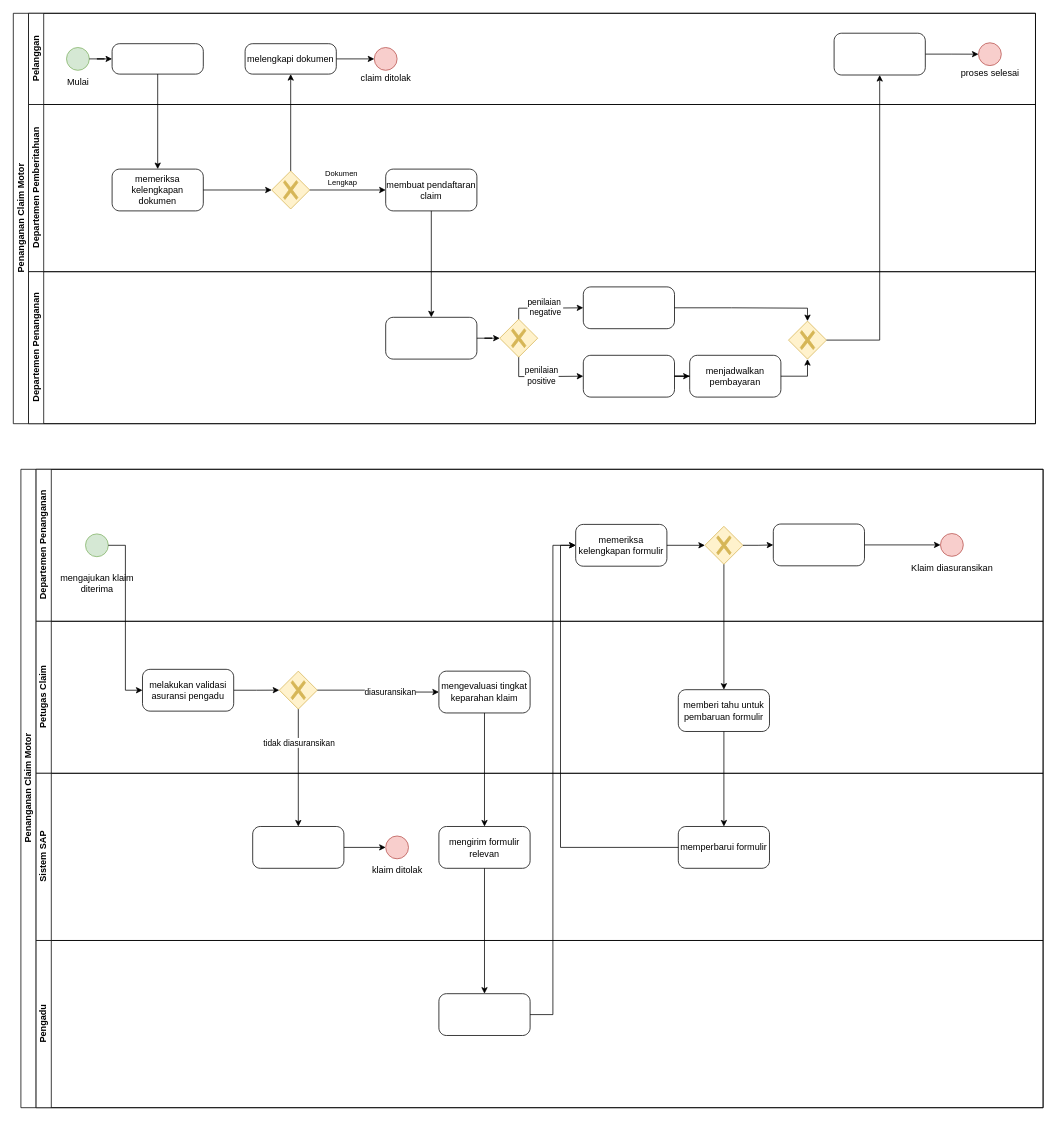
Some shapes in this 1056 by 1121 pixel diagram are drawn without their labels. The shapes that lost their labels are listed below. From the top down, each one's centre as x and y in pixels, then its label:
At pixel 157 58: "Mengajukan surat untuk claim motor".
At pixel 879 53: "menerima surat pemberitahuan".
At pixel 290 189: "Dokumen tidak lengkap".
At pixel 628 307: "menolak claim".
At pixel 431 338: "memeriksa asuransi dan melakukan penilaian".
At pixel 628 376: "menghubungi pihak bengkel".
At pixel 818 544: "klaim ototmatis terdaftar".
At pixel 298 847: "mengirim pemberitahuan klaim ditolak".
At pixel 484 1014: "mengembalikan formulir".
